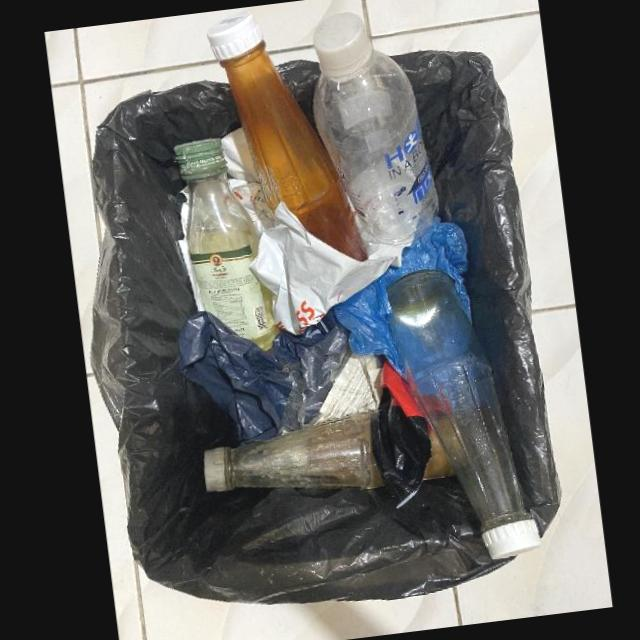chai_nhua_pet: (312, 12, 439, 246)
chai_thuy_tinh: (386, 269, 541, 558), (206, 12, 369, 261), (174, 137, 280, 351), (203, 405, 453, 491)
tui_ni_long: (177, 128, 400, 353), (177, 304, 387, 446), (333, 216, 472, 381)
